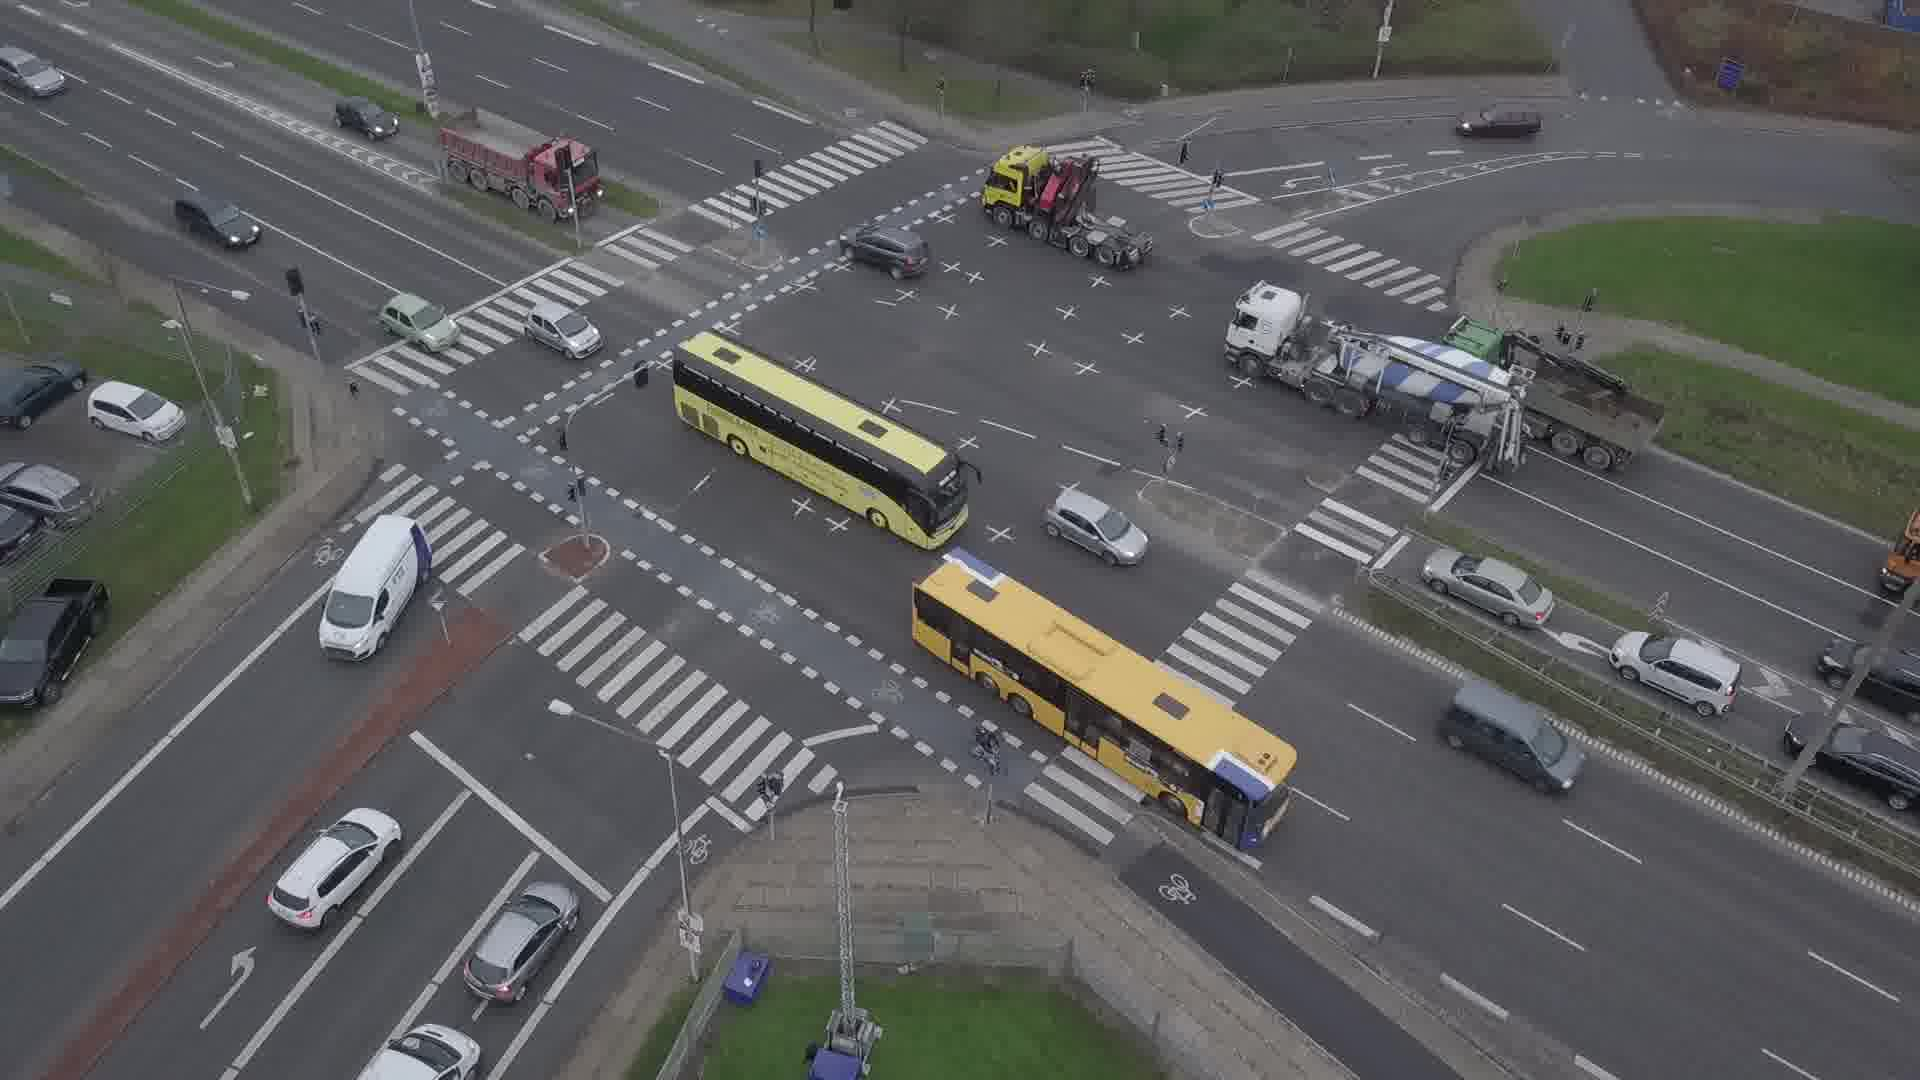bicycle: (964, 724, 1008, 780)
bus: (912, 546, 1298, 849), (671, 327, 982, 550)
car: (1443, 678, 1586, 793), (267, 808, 403, 928), (463, 880, 581, 1003), (1786, 714, 1920, 812), (1610, 630, 1744, 717), (1421, 548, 1556, 627), (1817, 638, 1920, 724), (1047, 490, 1148, 565), (838, 222, 930, 280), (174, 190, 262, 249), (380, 291, 461, 352), (525, 301, 603, 359), (0, 47, 65, 98), (334, 94, 400, 141), (1456, 103, 1541, 139)
lorry: (1222, 279, 1538, 472), (1441, 318, 1665, 471), (977, 140, 1161, 269), (436, 104, 605, 220), (318, 515, 433, 661), (355, 1023, 480, 1080)
